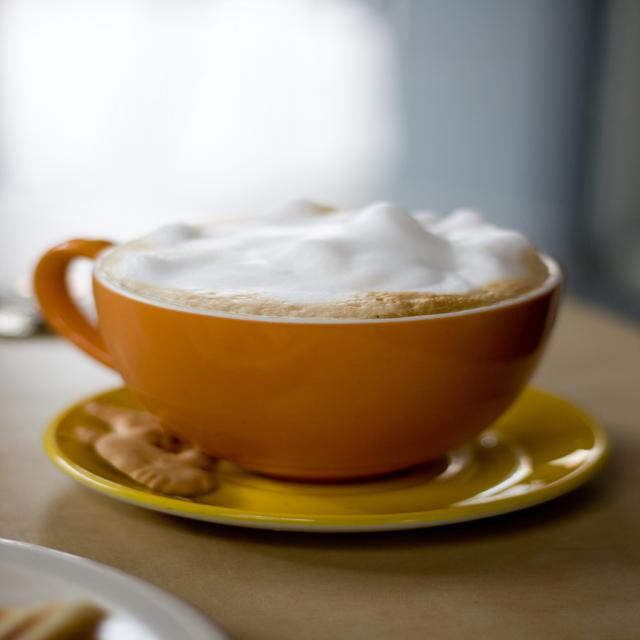Coffee: (104, 192, 562, 316)
